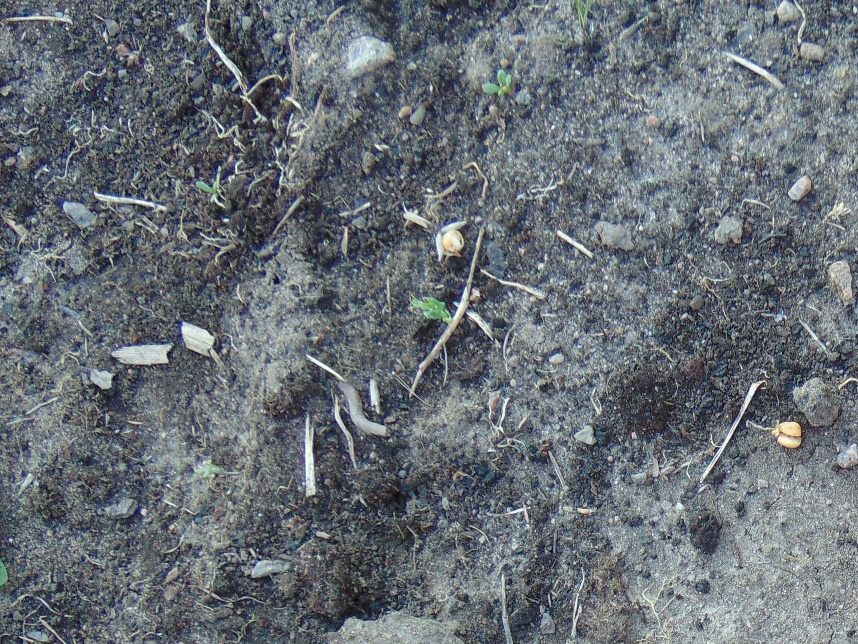crop: (409, 296, 451, 324)
